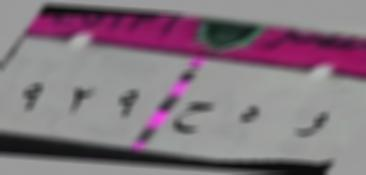2: (66, 82, 97, 125)
7aa: (173, 92, 215, 136)
9: (18, 78, 46, 117), (113, 81, 140, 120)
haa: (236, 96, 264, 132)
waw: (292, 102, 329, 144)
